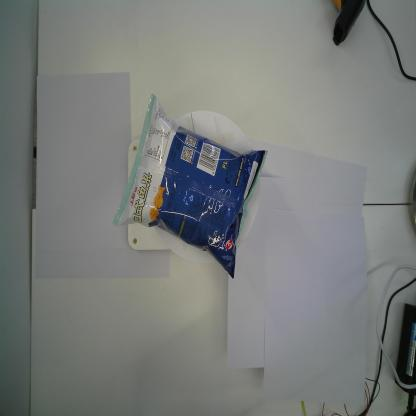Puffed Food: (112, 94, 268, 280)
